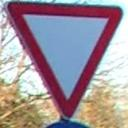preferencia: (6, 0, 124, 119)
